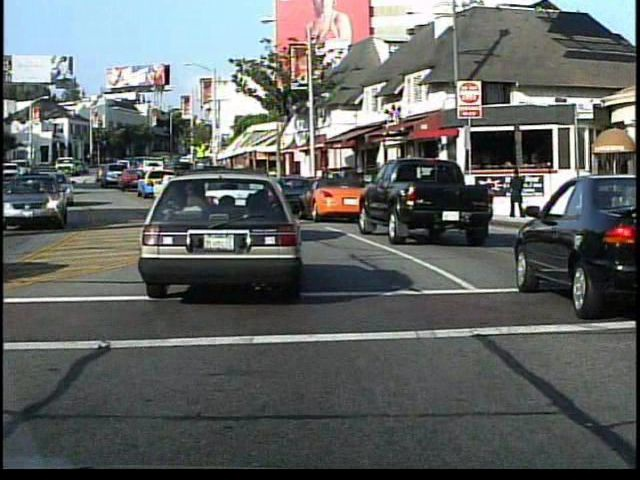person: (508, 167, 529, 225)
